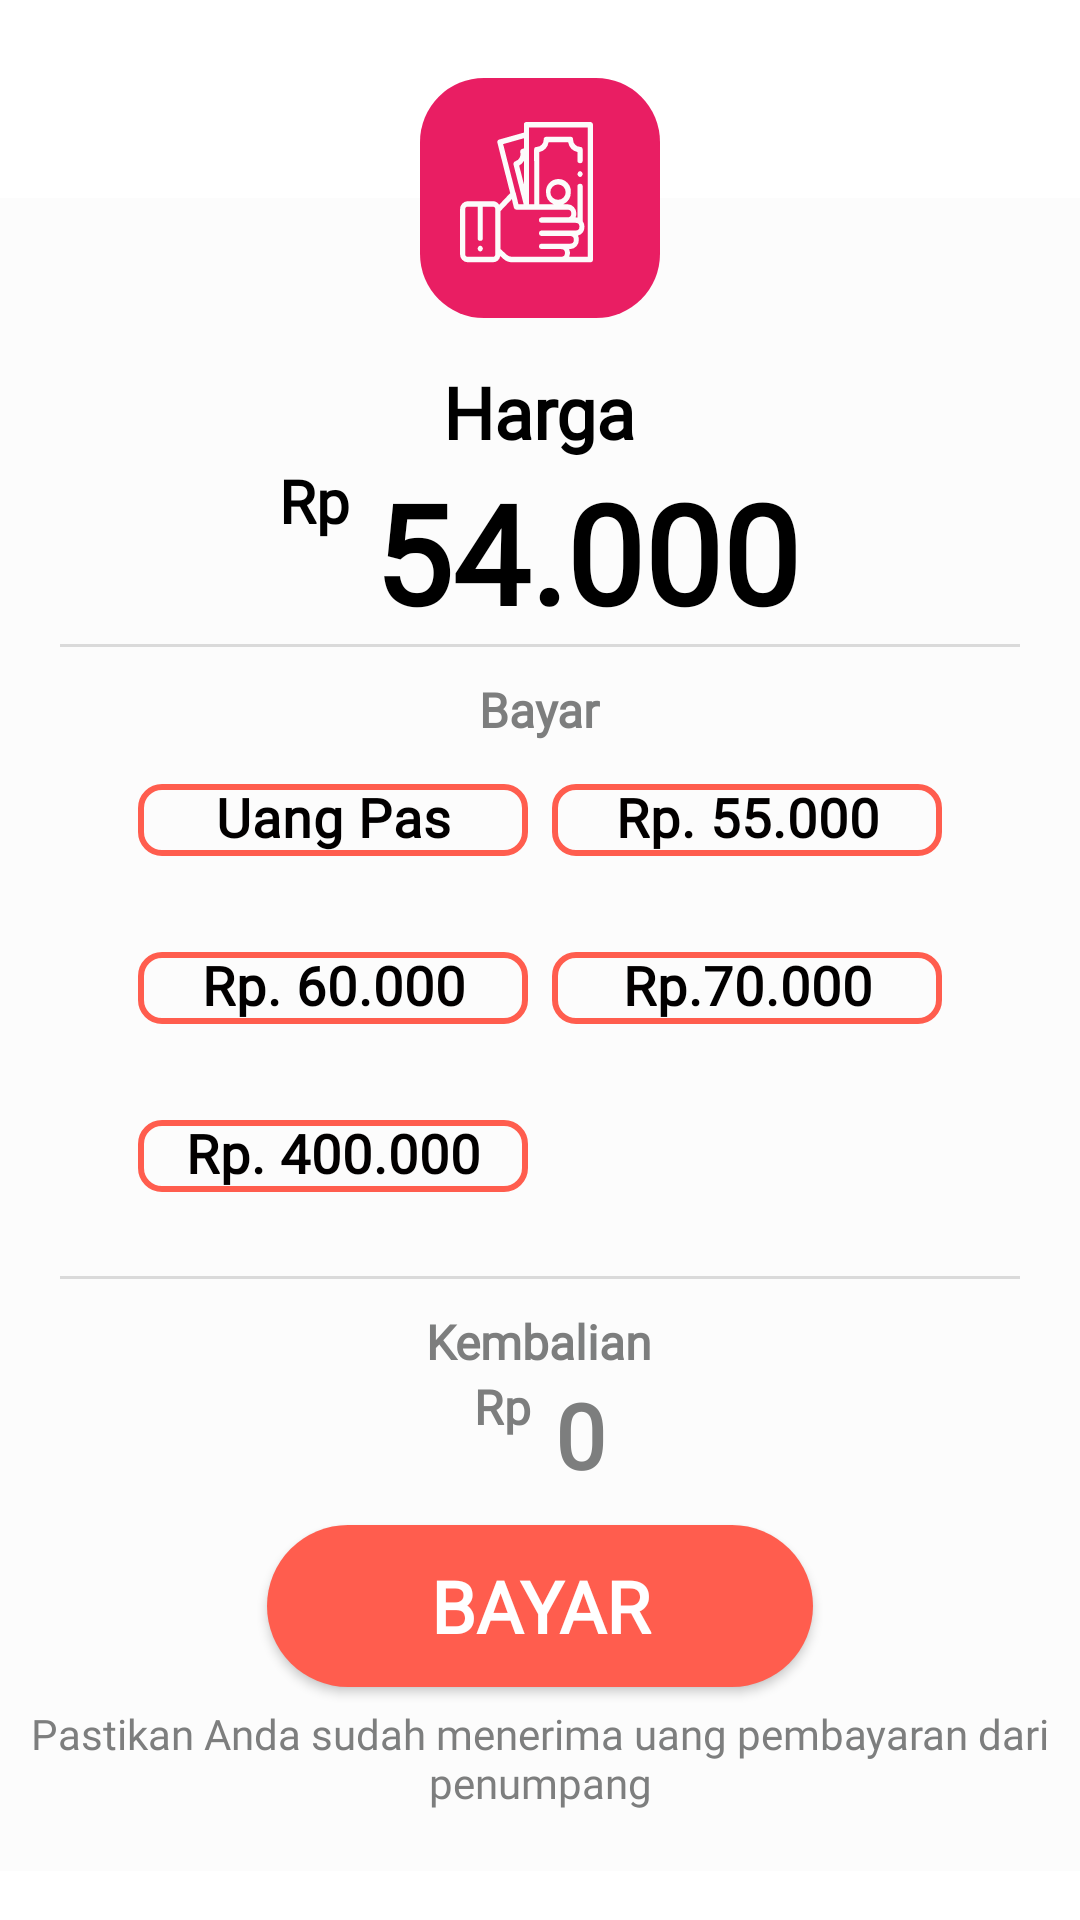

Locate icon controls on the screen. Image size 1080 × 1920, boxes as BBox(x1, y1, x2, y2).
cash pnp: BBox(420, 78, 660, 318)
